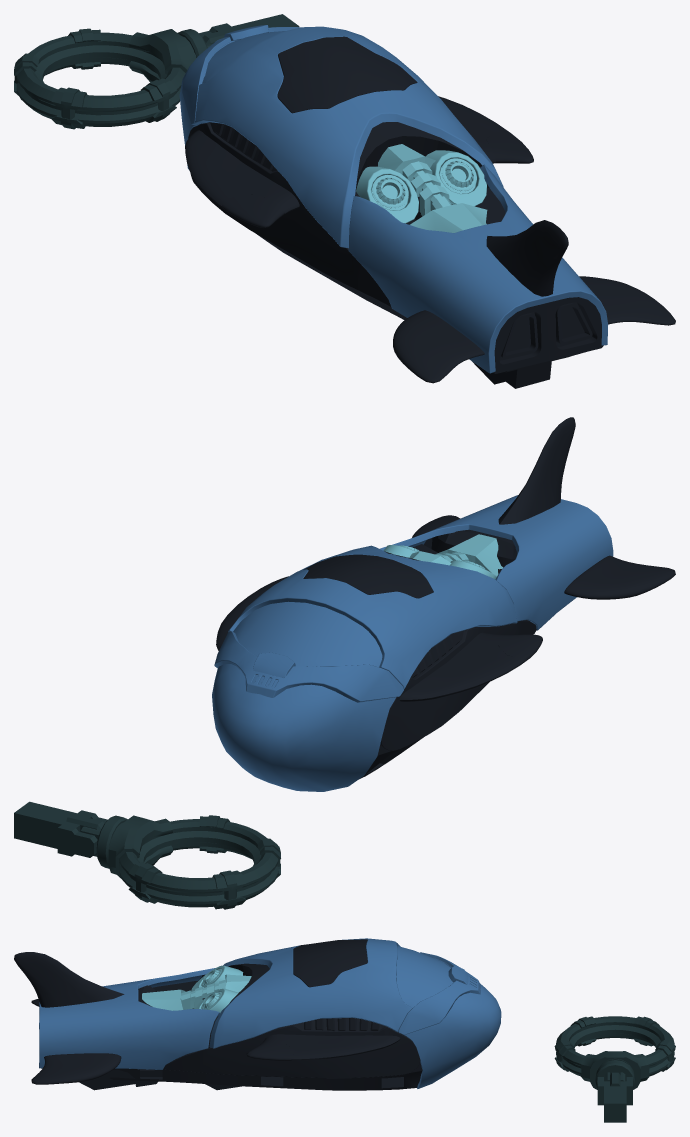
Rendered from fishDrone_341_Drone_And_Thruster.fbx.
3 renders of one model, top to bottom at view 1: azimuth 30°, elevation 25°; view 2: azimuth 150°, elevation 25°; view 3: azimuth 270°, elevation 25°, orthographic. The views are drawn at different scales.
Visible parts, largest first — view 1: CenterPlate Top.004_Piece, Front Plate.007, Body.004, Cylinder.010, CenterPlate Top.004_Piece.003, Front Plate.002_Piece.001, Front Plate.006, MainWing.009, Fin.002, Cylinder.016, Cylinder.010_Piece.005, MainWing.007 (+10 smaller); view 2: Front Plate.005, CenterPlate Top.004_Piece, Front Plate.007, CenterPlate Top.005, Cylinder.010, Front Plate Cover Strip, Front Plate.006, MainWing.009, Front Plate.002_Piece.001, CenterPlate Top.004_Piece.003, Cube.005, Fin.002 (+6 smaller); view 3: CenterPlate Top.004_Piece, Front Plate.007, Front Plate.006, Body.004, Front Plate.005, Fin.002, Cylinder.010, CenterPlate Top.004_Piece.003, MainWing.009, CenterPlate Top.005, Front Plate.002_Piece.001, Front Plate Cover Strip (+12 smaller).
Boxes of the visible parts, bbox=[...] form: CenterPlate Top.004_Piece: bbox=[195, 26, 503, 248]; Front Plate.007: bbox=[348, 164, 608, 373]; Body.004: bbox=[198, 122, 603, 373]; Cylinder.010: bbox=[16, 32, 185, 126]; CenterPlate Top.004_Piece.003: bbox=[277, 36, 417, 113]; Front Plate.002_Piece.001: bbox=[393, 276, 675, 383]; Front Plate.006: bbox=[188, 123, 390, 306]; MainWing.009: bbox=[185, 96, 511, 214]; Fin.002: bbox=[486, 220, 568, 296]; Cylinder.016: bbox=[356, 150, 486, 223]; Cylinder.010_Piece.005: bbox=[14, 28, 176, 129]; MainWing.007: bbox=[221, 131, 533, 227]; Front Plate.005: bbox=[212, 664, 395, 791]; CenterPlate Top.004_Piece: bbox=[228, 545, 517, 689]; Front Plate.007: bbox=[380, 495, 613, 630]; CenterPlate Top.005: bbox=[233, 601, 382, 667]; Cylinder.010: bbox=[119, 819, 278, 907]; Front Plate Cover Strip: bbox=[214, 631, 403, 702]; Front Plate.006: bbox=[380, 620, 536, 750]; MainWing.009: bbox=[216, 594, 523, 701]; Front Plate.002_Piece.001: bbox=[412, 515, 675, 599]; CenterPlate Top.004_Piece.003: bbox=[303, 554, 433, 598]; Cube.005: bbox=[14, 801, 107, 857]; Fin.002: bbox=[498, 417, 575, 524]; CenterPlate Top.004_Piece: bbox=[209, 938, 411, 1048]; Front Plate.007: bbox=[39, 968, 219, 1069]; Front Plate.006: bbox=[163, 1024, 420, 1078]; Body.004: bbox=[41, 963, 422, 1090]; Front Plate.005: bbox=[404, 958, 501, 1088]; Fin.002: bbox=[14, 952, 124, 1007]; Cylinder.010: bbox=[556, 1016, 674, 1076]; CenterPlate Top.004_Piece.003: bbox=[293, 939, 367, 987]; MainWing.009: bbox=[260, 1028, 400, 1060]; CenterPlate Top.005: bbox=[396, 946, 453, 1008]; Front Plate.002_Piece.001: bbox=[31, 999, 121, 1084]; Front Plate Cover Strip: bbox=[398, 952, 480, 1034].
Size of the model in its own units: 3.98 by 10.85 by 2.48.
